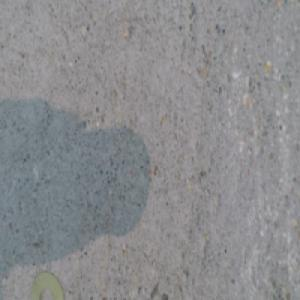Washer: (29, 271, 65, 298)
